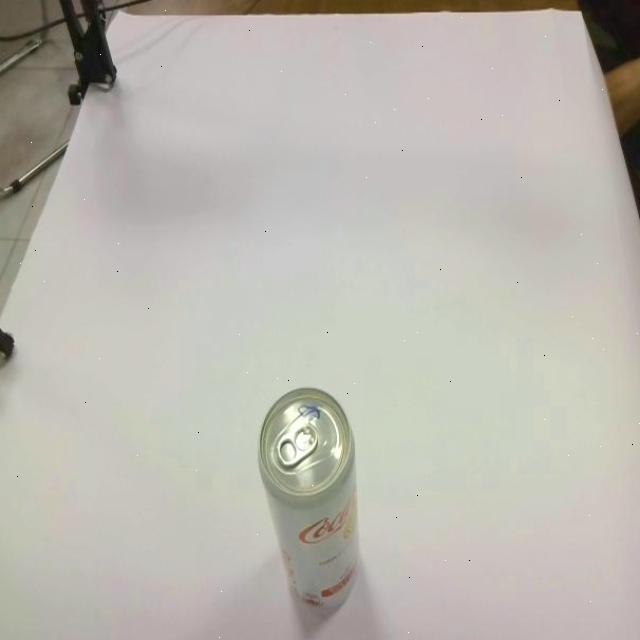debris: (257, 386, 360, 639)
